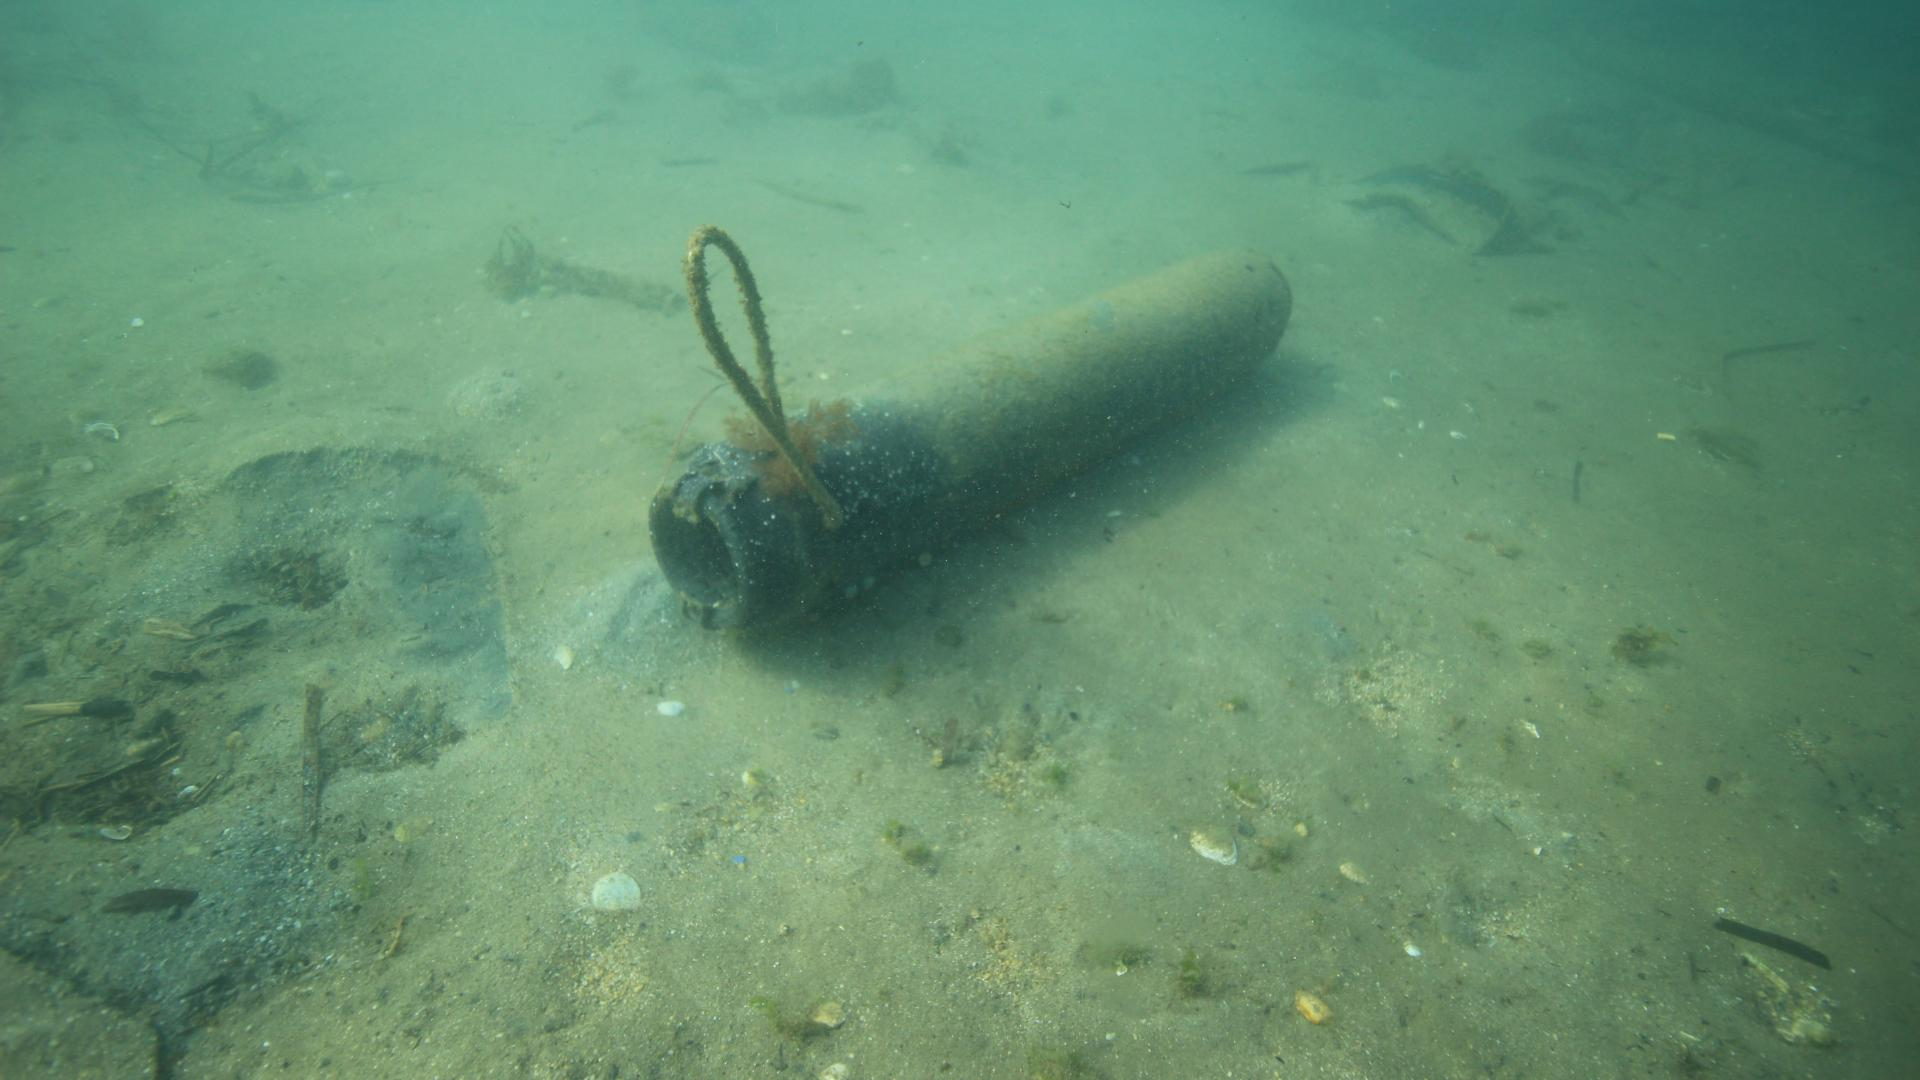eel fish trap: (640, 243, 1299, 636)
rope: (680, 222, 848, 531)
